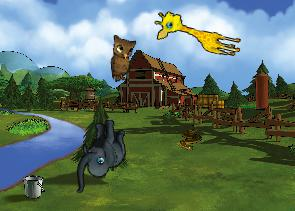elephant: (67, 117, 131, 193)
giraffe: (151, 8, 245, 58)
owl: (108, 33, 140, 82)
